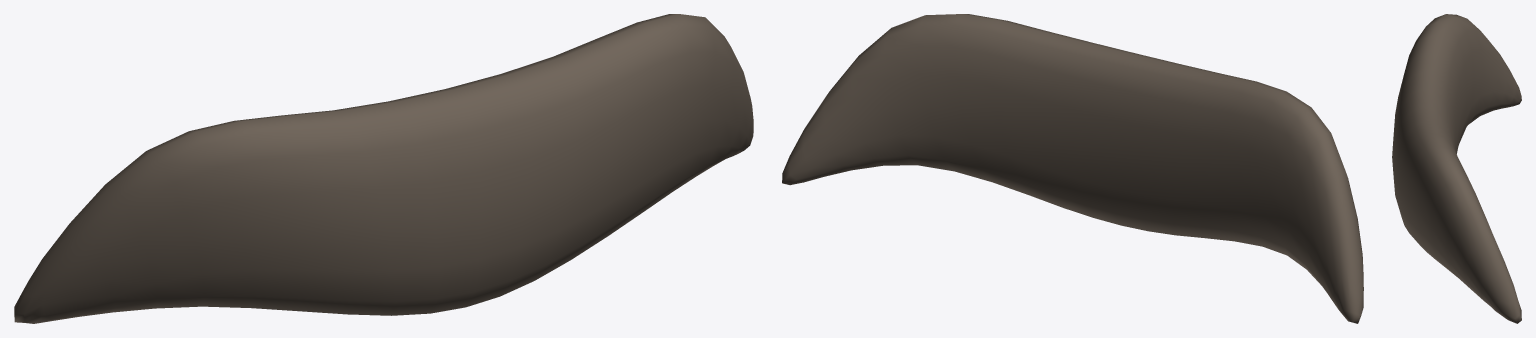
The model's file is Snor_01.fbx.
3 views of the same model, side by side, from view 1: azimuth 30°, elevation 25°; view 2: azimuth 150°, elevation 25°; view 3: azimuth 270°, elevation 25° (orthographic). The views are drawn at different scales.
Visible parts, largest first — view 1: pasted__pCube6; view 2: pasted__pCube6; view 3: pasted__pCube6.
Boxes of the visible parts, x1,y1,x2,y2 form: pasted__pCube6: [14, 14, 753, 323]; pasted__pCube6: [782, 14, 1363, 323]; pasted__pCube6: [1392, 14, 1521, 323].
Bounding box in the file's own units: 0.0113 × 0.00335 × 0.00279.
1 material, 1 textured.
